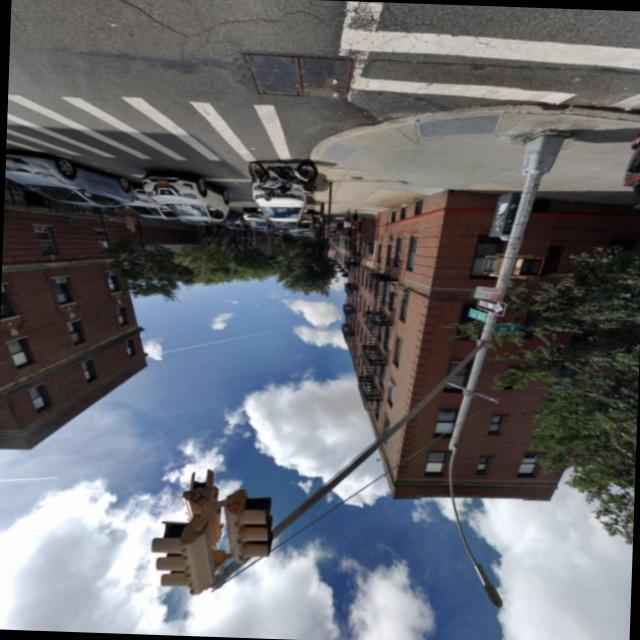off: (368, 281, 534, 638)
